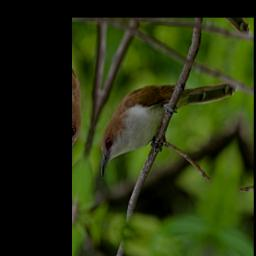Cuckoo: (93, 47, 237, 213)
